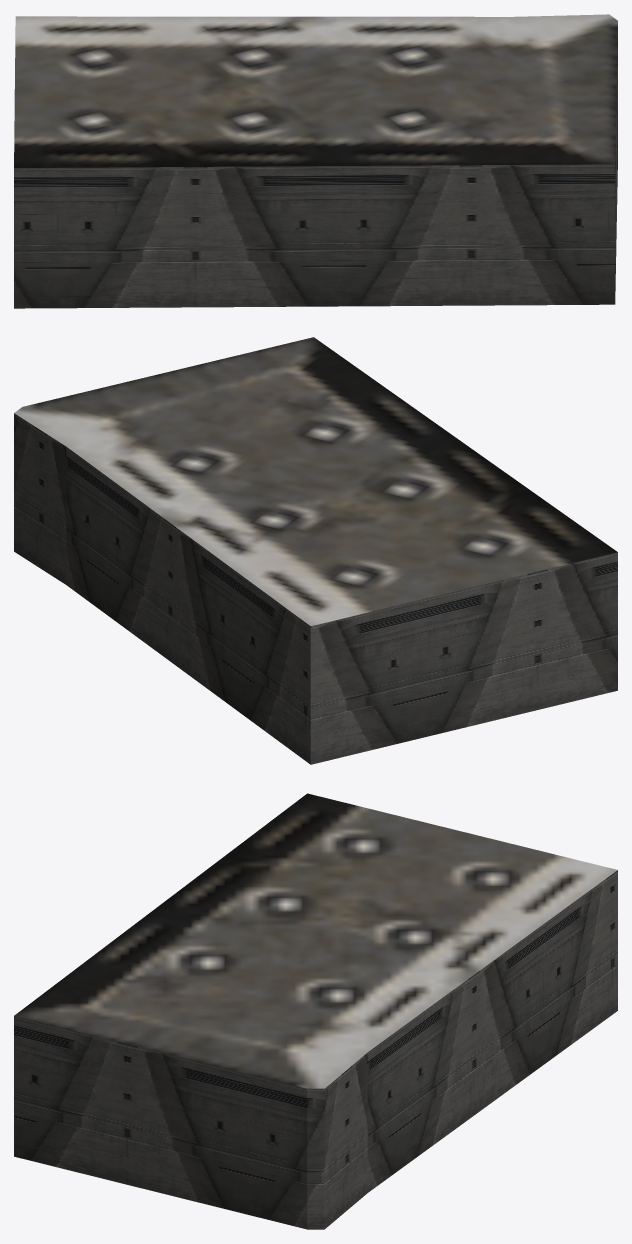
Rendered from fortress_medium_32.glb.
3 renders of one model, top to bottom at view 1: azimuth 30°, elevation 25°; view 2: azimuth 150°, elevation 25°; view 3: azimuth 270°, elevation 25°, orthographic.
Parts seen in each view (by area): view 1: buildings/saxarba/fortress_medium/fortress_medium_32; view 2: buildings/saxarba/fortress_medium/fortress_medium_32; view 3: buildings/saxarba/fortress_medium/fortress_medium_32.
Part boxes in pixels (x1,y1,x2,y2): buildings/saxarba/fortress_medium/fortress_medium_32: [14, 14, 617, 308]; buildings/saxarba/fortress_medium/fortress_medium_32: [14, 337, 617, 764]; buildings/saxarba/fortress_medium/fortress_medium_32: [14, 793, 617, 1229].
Size of the model in its own units: 81 by 18 by 70.
